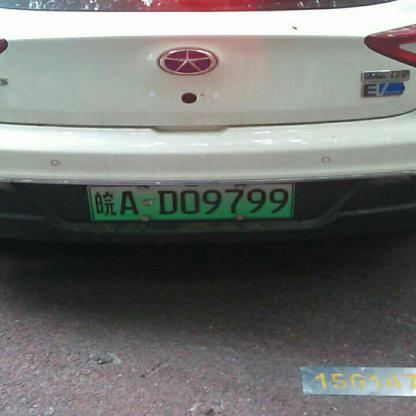lp: (89, 184, 292, 219)
